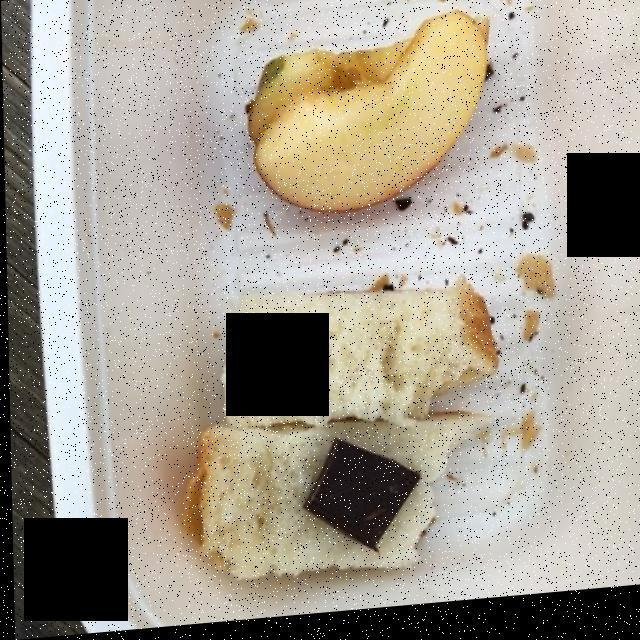apple: (246, 18, 487, 212)
bread: (212, 302, 501, 597)
chocolate: (311, 438, 429, 580)
